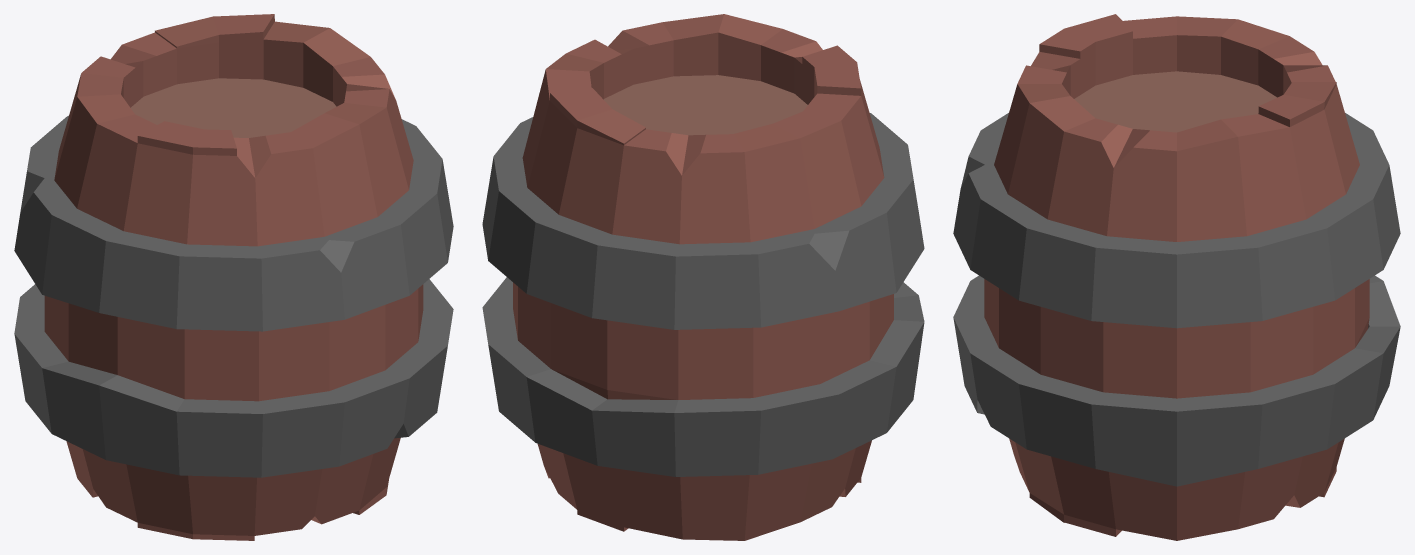
Rendered from Barrel.glb.
3 views of the same model, side by side, from view 1: azimuth 30°, elevation 25°; view 2: azimuth 150°, elevation 25°; view 3: azimuth 270°, elevation 25° (orthographic).
Visible parts, largest first — view 1: Cylinder, Brackets; view 2: Cylinder, Brackets; view 3: Cylinder, Brackets.
Boxes of the visible parts, box(x1,y1,x2,y2) form: Cylinder: box(44, 14, 423, 540); Brackets: box(14, 115, 453, 477); Cylinder: box(513, 14, 893, 540); Brackets: box(482, 113, 924, 476); Cylinder: box(984, 14, 1369, 540); Brackets: box(953, 113, 1400, 486).
Size of the model in its own units: 2.8 by 2.79 by 2.8.
